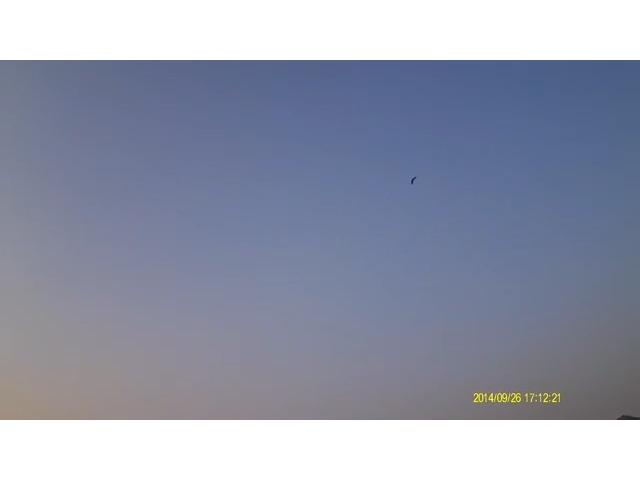Anti-Drone: (404, 172, 430, 196)
